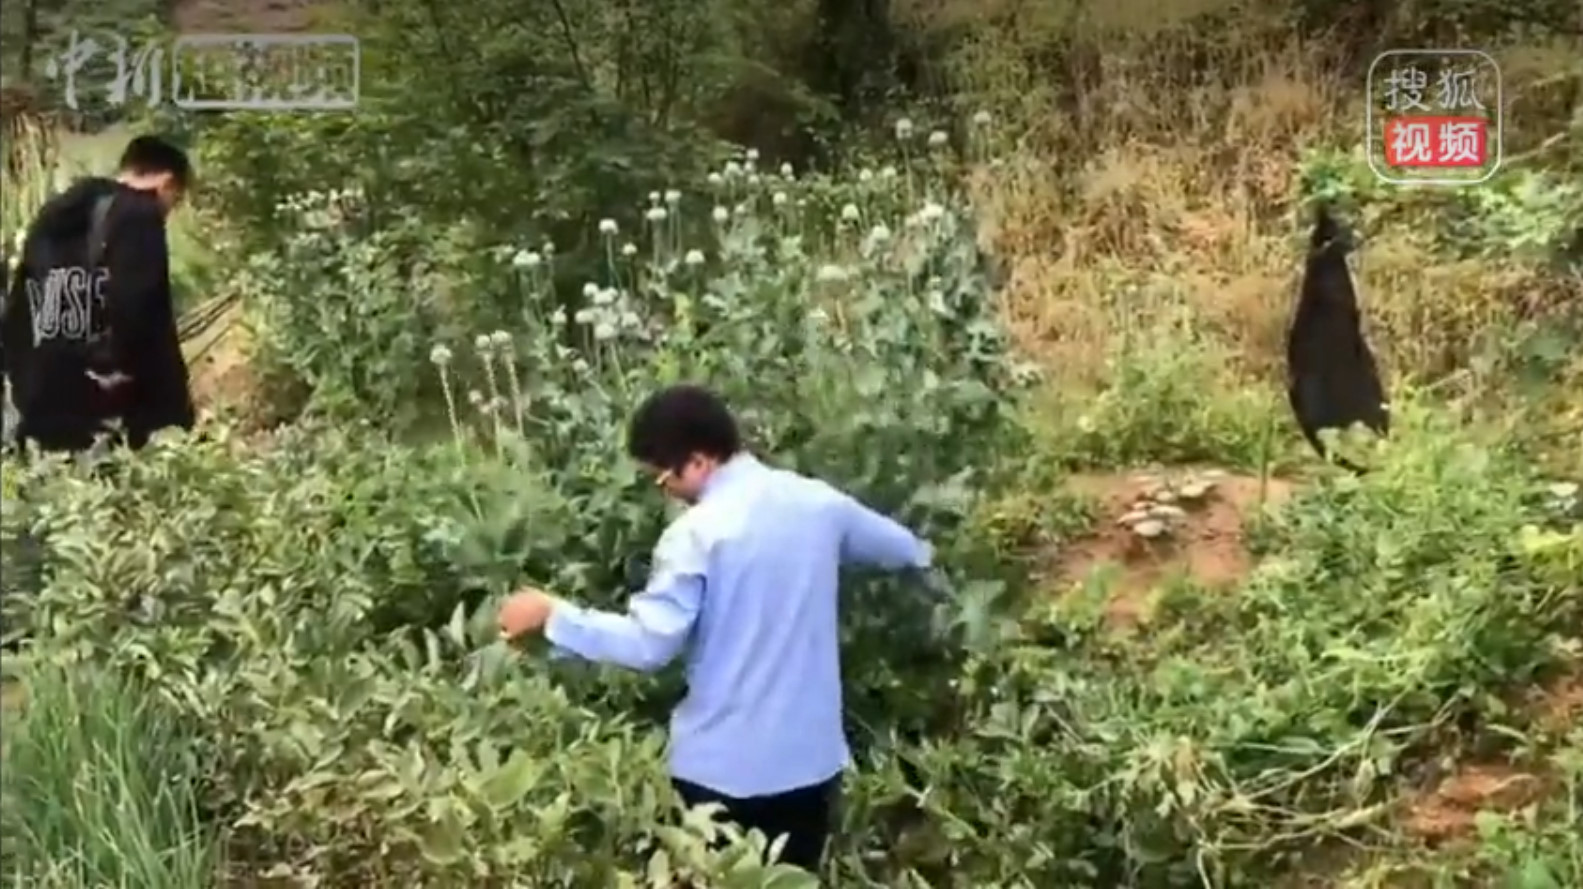Poppy: (406, 127, 1038, 534)
